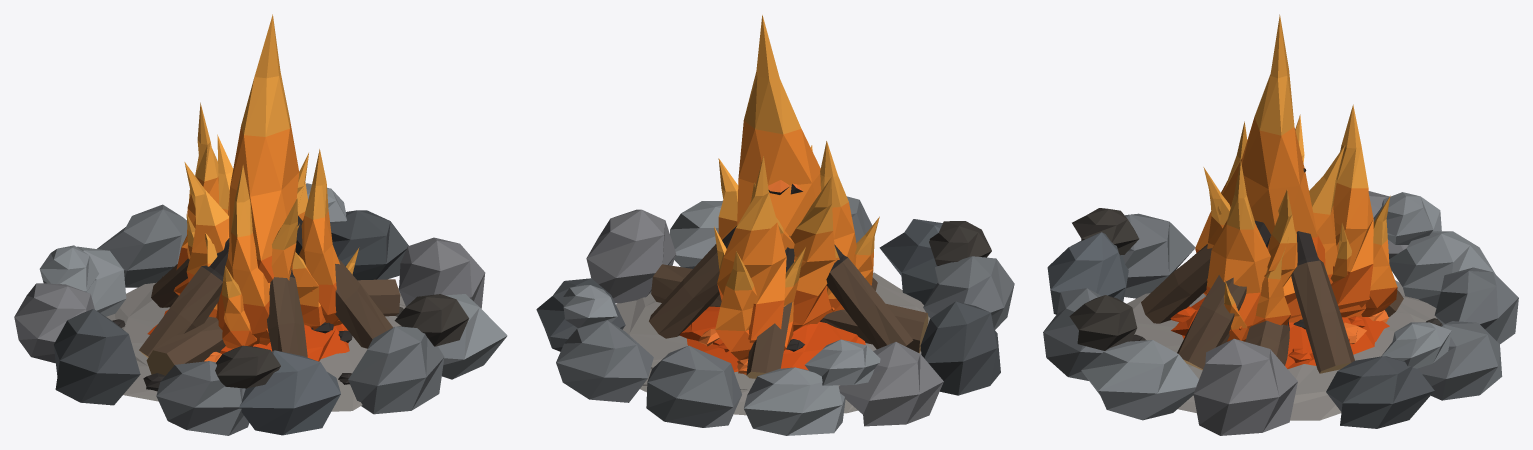
The model's file is SM_LPD_Light_FirePitLit_01.fbx.
The picture shows the model from 3 angles, left to right: view 1: azimuth 30°, elevation 25°; view 2: azimuth 150°, elevation 25°; view 3: azimuth 270°, elevation 25°; orthographic projection. The views are drawn at different scales.
Parts seen in each view (by area): view 1: SM_LPD_Light_FirePitLit_01; view 2: SM_LPD_Light_FirePitLit_01; view 3: SM_LPD_Light_FirePitLit_01.
Part boxes in pixels (bbox=[...]): SM_LPD_Light_FirePitLit_01: bbox=[14, 14, 507, 435]; SM_LPD_Light_FirePitLit_01: bbox=[536, 15, 1014, 435]; SM_LPD_Light_FirePitLit_01: bbox=[1043, 14, 1518, 435].
Bounding box in the file's own units: 1.08 × 0.8253 × 1.05.
